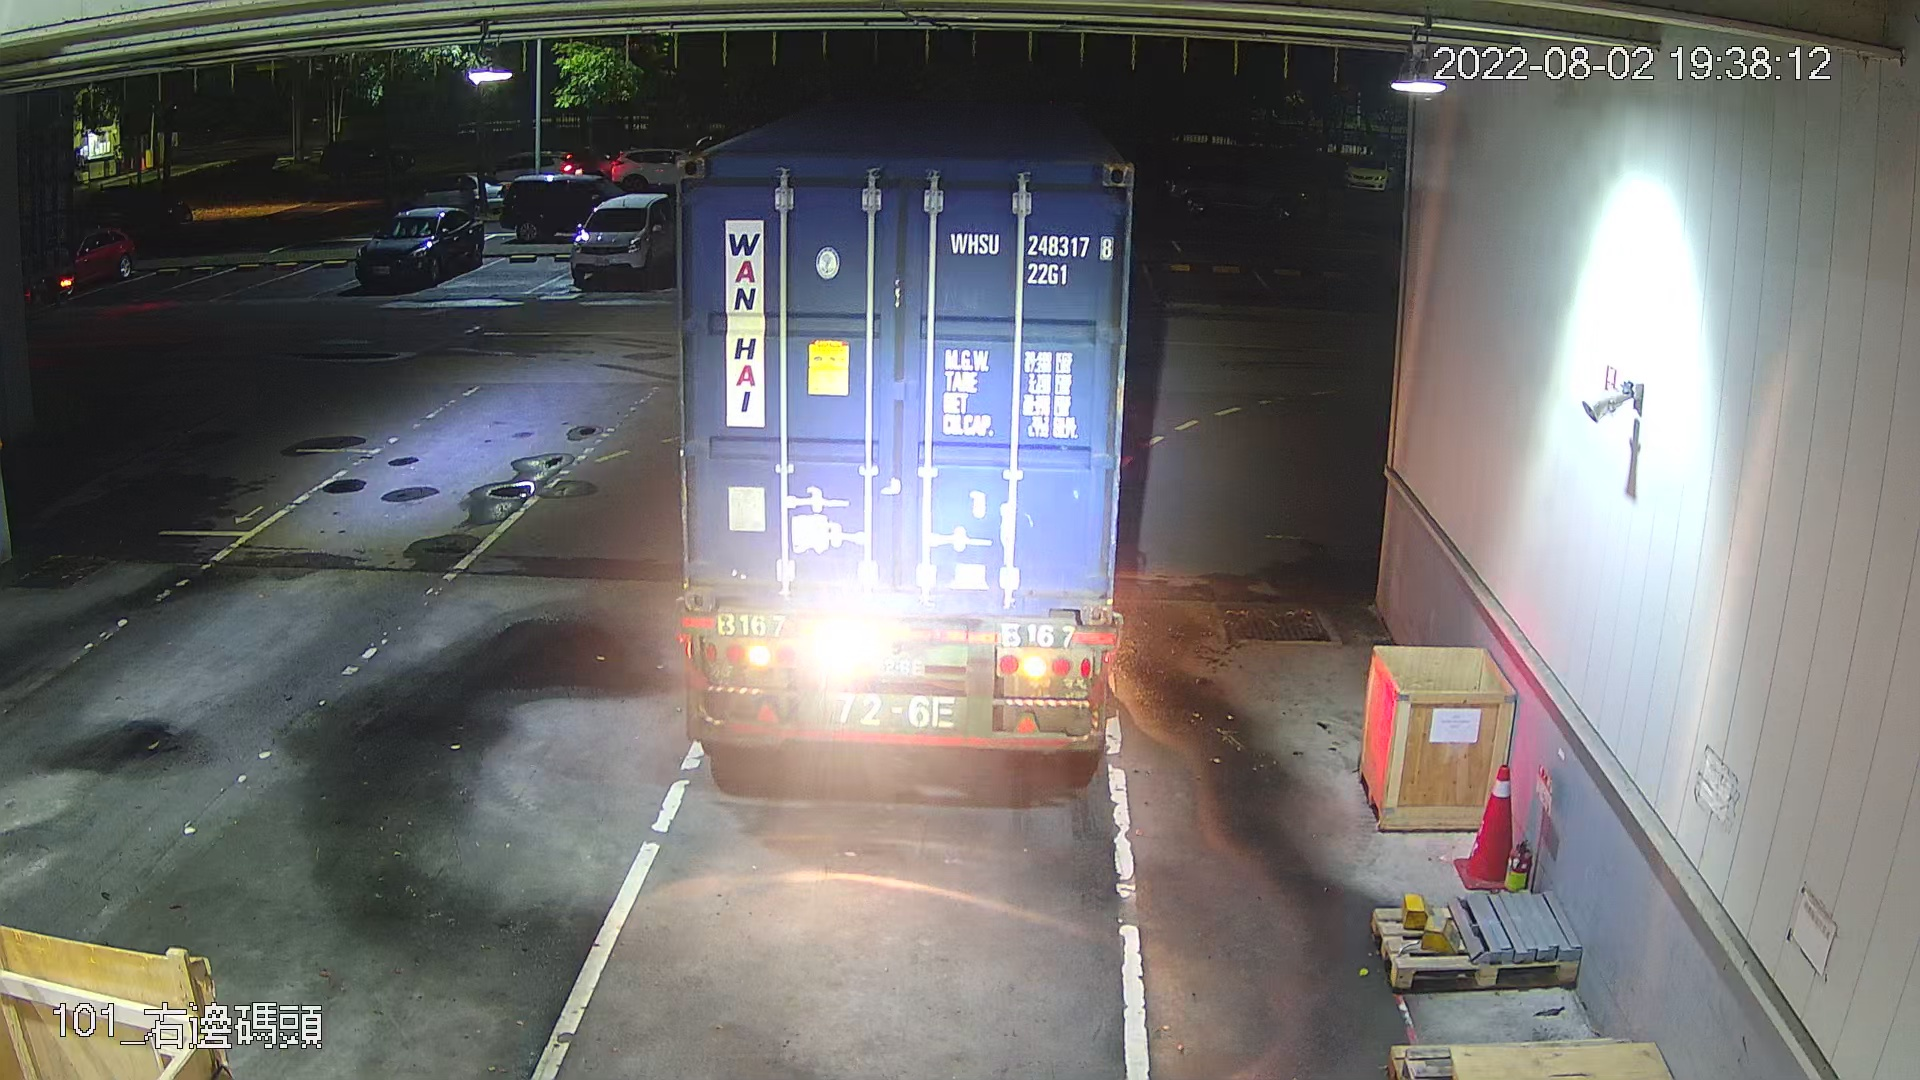container: (942, 223, 1122, 295)
